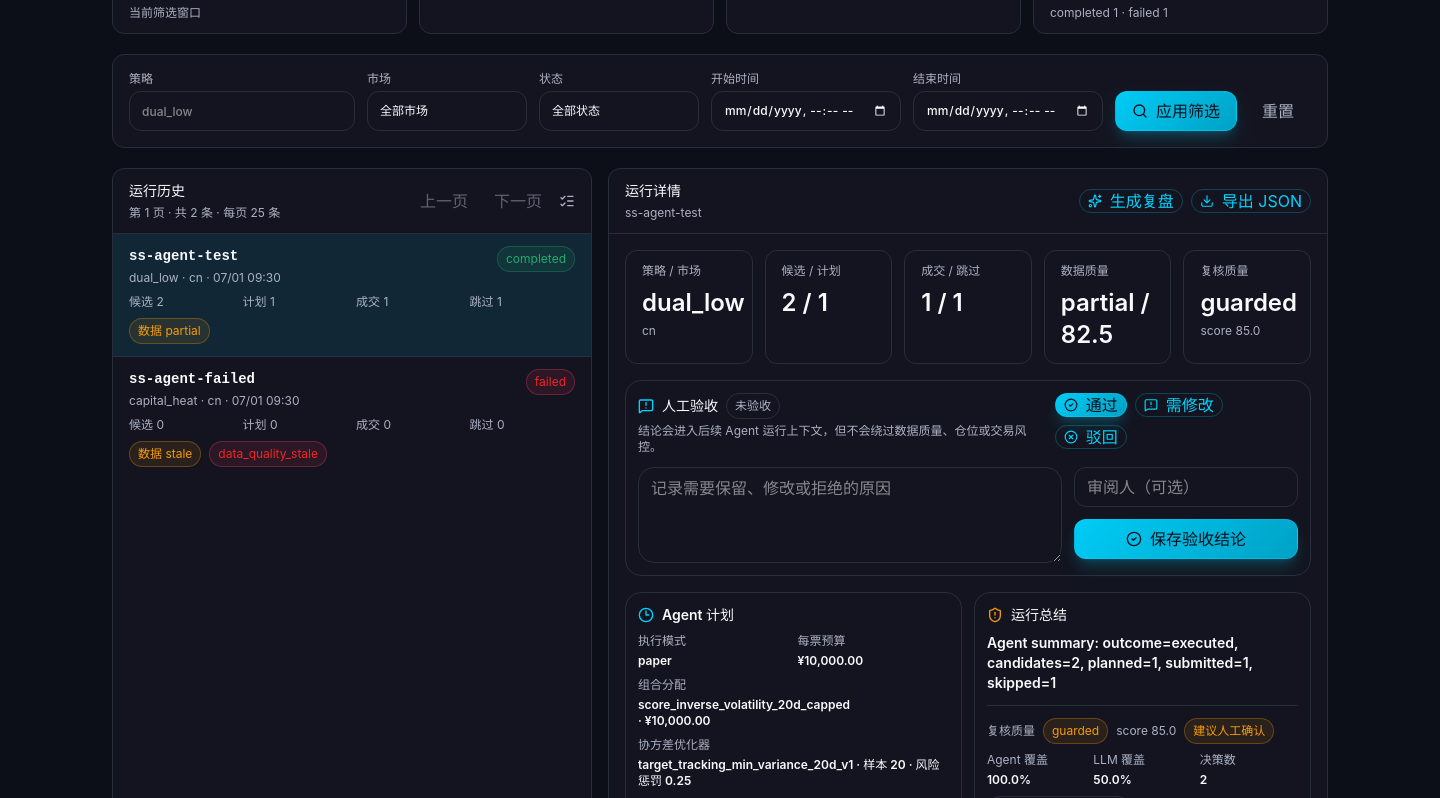
Scenario: AgentConsolePage › saves human acceptance feedback for the selected Agent run
(page scrolled)
Click the button "需修改" at (1179, 405), box [1135, 393, 1223, 417]
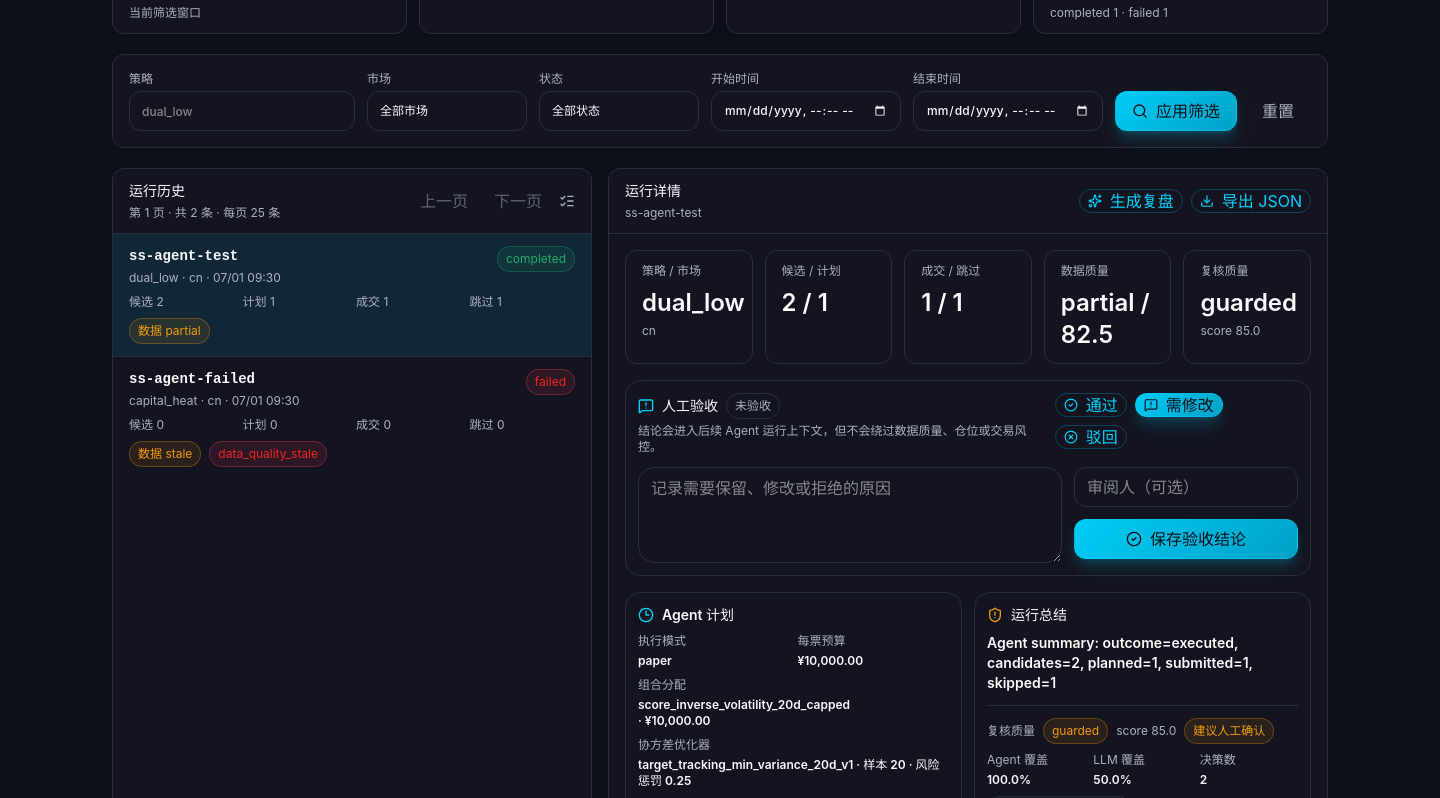
Type "Reduce concentration before the next run." into the text box with test id "agent-human-feedback-note" at (850, 515), box [638, 467, 1062, 563]
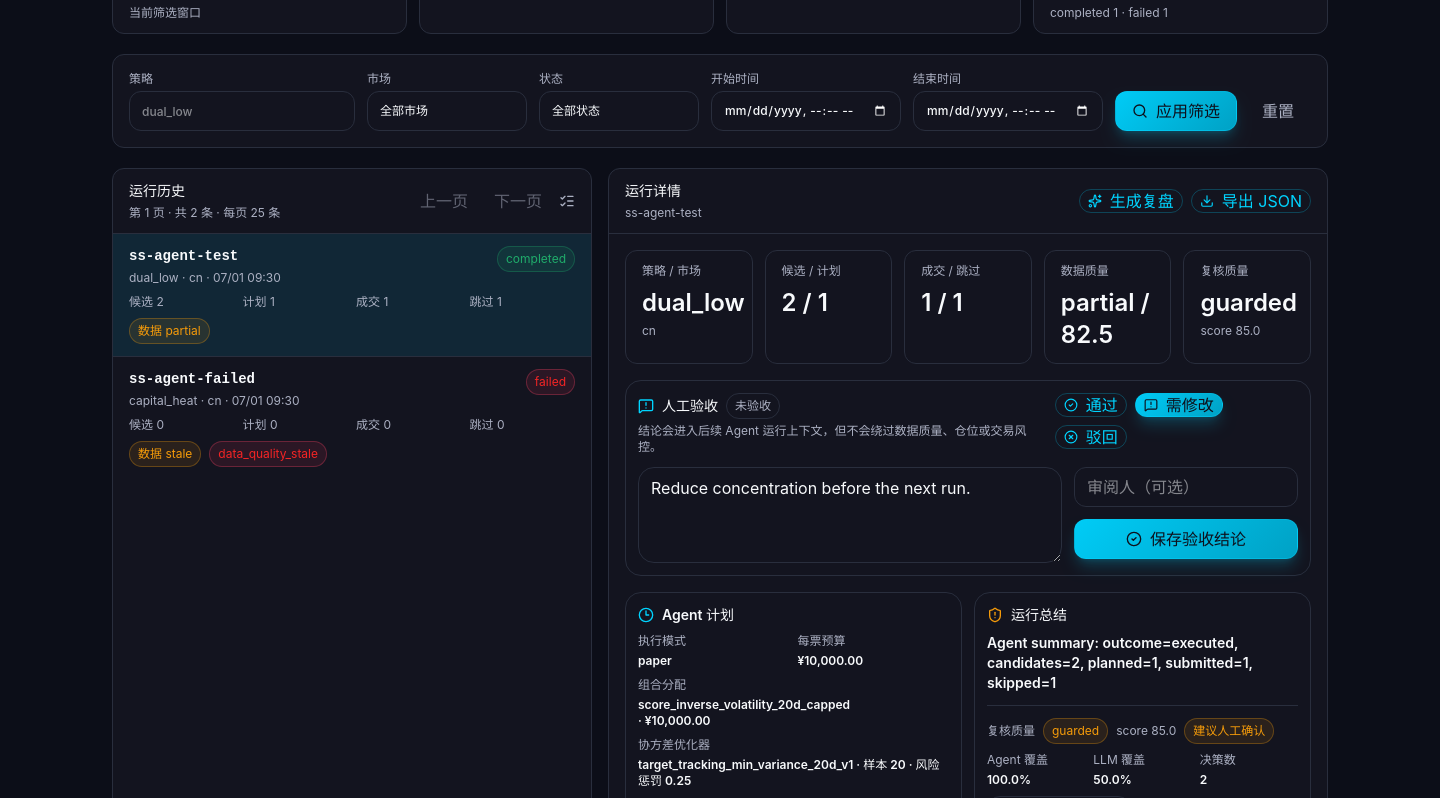
Type "risk-owner" into the field with test id "agent-human-feedback-reviewer" at (1186, 487), box [1074, 467, 1298, 507]
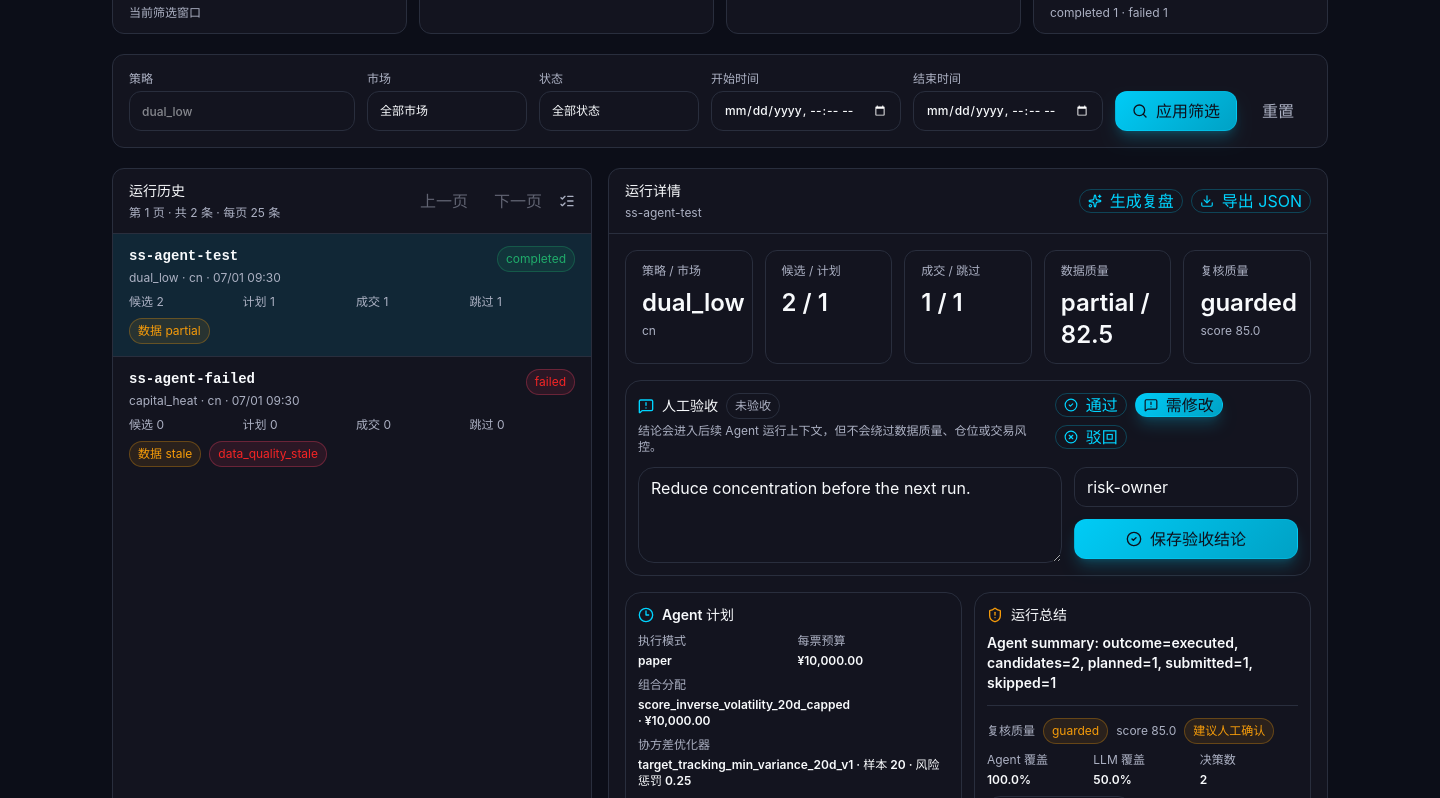
Click the button "保存验收结论" at (1186, 539), box [1074, 519, 1298, 559]
(page scrolled)
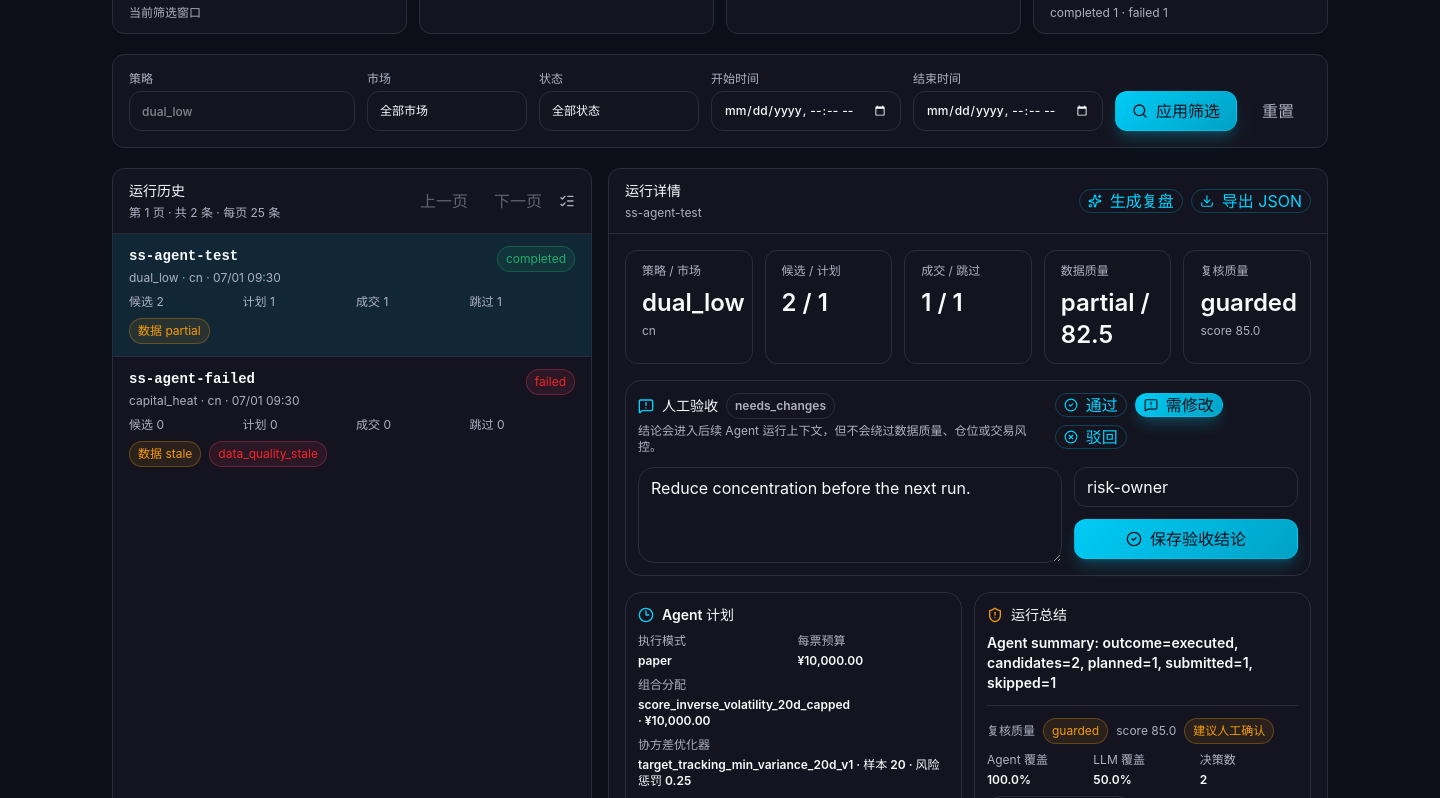
Result: the element with test id "agent-human-feedback" shows "needs_changes" at [735, 398, 826, 413]
